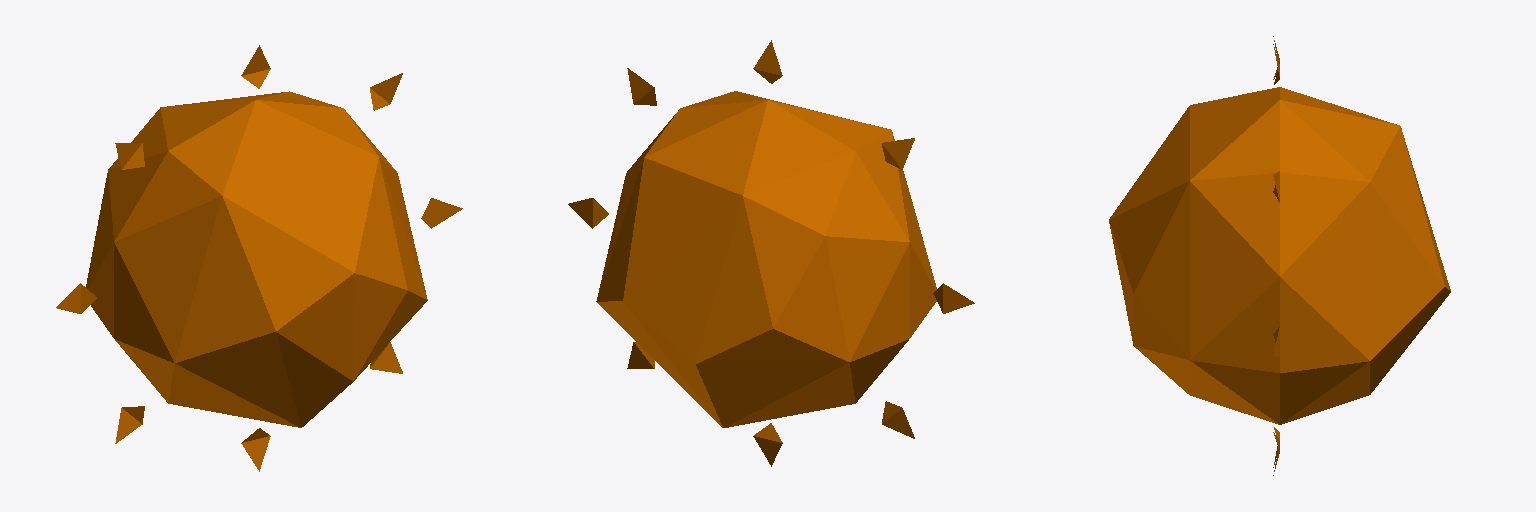
File: sun.obj
The picture shows the model from 3 angles: view 1: azimuth 30°, elevation 25°; view 2: azimuth 150°, elevation 25°; view 3: azimuth 270°, elevation 25°; orthographic projection.
Visible parts, largest first — view 1: Icosphere, Plane.003_Plane.001, Plane.004_Plane.001, Plane.008_Plane.001, Plane.005_Plane.001, Plane.001, Plane.007_Plane.001, Plane.002_Plane.001, Plane.006_Plane.001; view 2: Icosphere, Plane.007_Plane.001, Plane.008_Plane.001, Plane.002_Plane.001, Plane.004_Plane.001, Plane.005_Plane.001, Plane.001, Plane.003_Plane.001; view 3: Icosphere.
Boxes of the visible parts, x1,y1,x2,y2 form: Icosphere: [86, 91, 427, 427]; Plane.003_Plane.001: [56, 283, 96, 313]; Plane.004_Plane.001: [115, 406, 144, 443]; Plane.008_Plane.001: [370, 73, 402, 110]; Plane.005_Plane.001: [241, 428, 270, 471]; Plane.001: [241, 45, 270, 88]; Plane.007_Plane.001: [421, 198, 462, 228]; Plane.002_Plane.001: [115, 143, 144, 169]; Plane.006_Plane.001: [370, 342, 402, 373]; Icosphere: [596, 91, 936, 427]; Plane.007_Plane.001: [568, 198, 608, 228]; Plane.008_Plane.001: [627, 68, 656, 105]; Plane.002_Plane.001: [882, 138, 914, 169]; Plane.004_Plane.001: [882, 401, 914, 438]; Plane.005_Plane.001: [753, 423, 782, 466]; Plane.001: [753, 40, 782, 83]; Plane.003_Plane.001: [933, 283, 974, 313]; Icosphere: [1109, 87, 1450, 424].
Size of the model in its own units: 2.73 by 2.73 by 1.99.